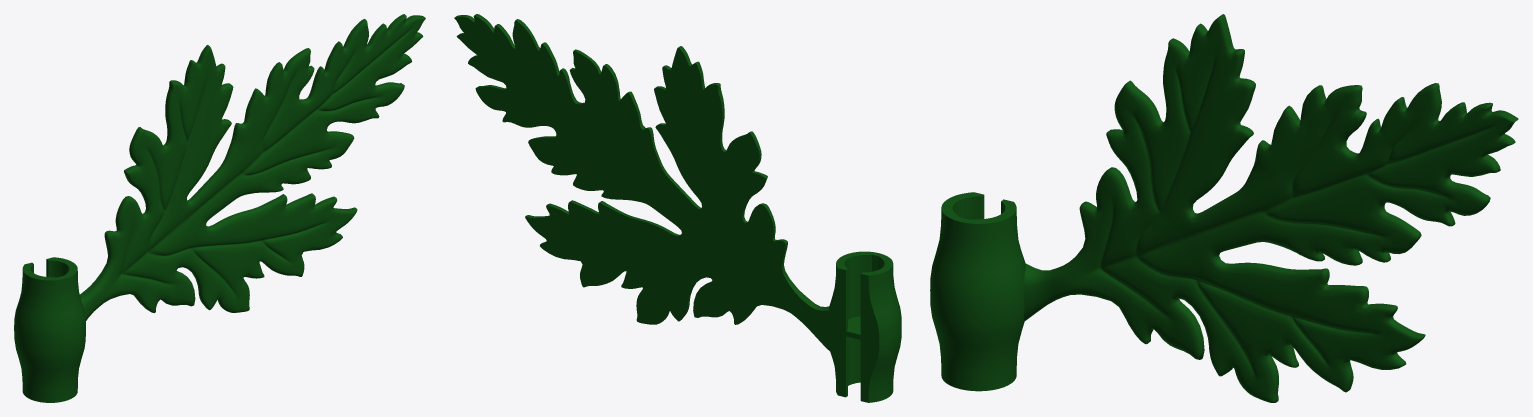
The model's file is c_mum_leaf_a_r.glb.
3 renders of one model, left to right at view 1: azimuth 30°, elevation 25°; view 2: azimuth 150°, elevation 25°; view 3: azimuth 330°, elevation 25°, orthographic. The views are drawn at different scales.
Visible parts, largest first — view 1: mum_leaf_a_r, connector; view 2: mum_leaf_a_r, connector; view 3: mum_leaf_a_r, connector.
Part boxes in pixels (box(x1,y1,x2,y2)): mum_leaf_a_r: box(80, 14, 425, 321); connector: box(14, 257, 85, 402); mum_leaf_a_r: box(454, 14, 829, 350); connector: box(827, 251, 901, 402); mum_leaf_a_r: box(1024, 14, 1518, 402); connector: box(930, 192, 1025, 391).
Size of the model in its own units: 0.0887 by 0.0607 by 0.0107.
